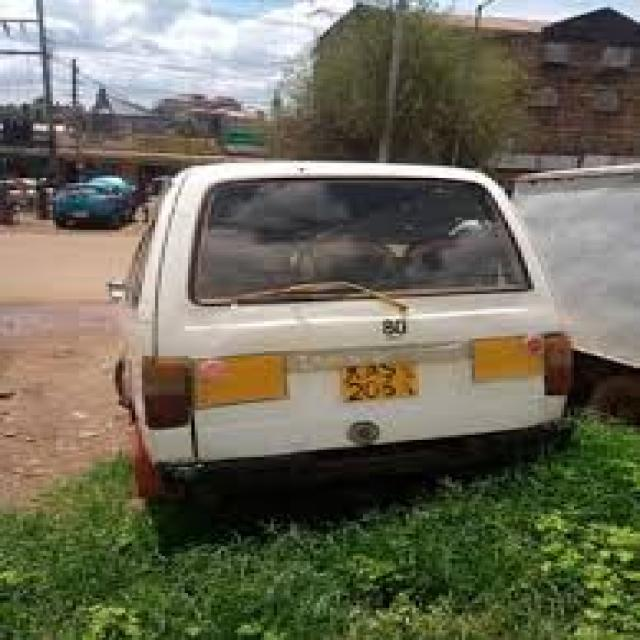matatu: (44, 109, 611, 547)
